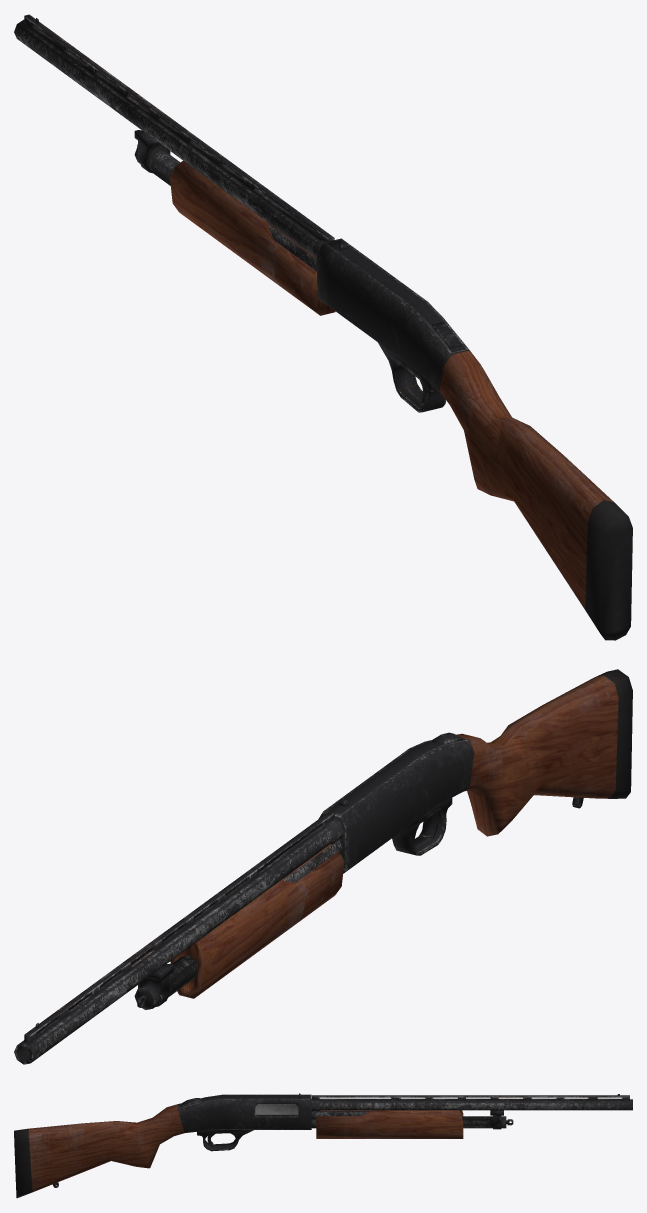
The model's file is shotgun.glb.
3 views of the same model, one above another, from view 1: azimuth 30°, elevation 25°; view 2: azimuth 150°, elevation 25°; view 3: azimuth 270°, elevation 25° (orthographic). The views are drawn at different scales.
Parts seen in each view (by area): view 1: body, bolt; view 2: body, bolt; view 3: body, bolt.
Boxes of the visible parts, <box> form: body: <box>14,14,632,640</box>; bolt: <box>170,160,335,315</box>; body: <box>14,669,632,1064</box>; bolt: <box>170,851,344,998</box>; body: <box>14,1093,632,1198</box>; bolt: <box>316,1110,463,1138</box>.
Size of the model in its own units: 0.0351 by 0.1991 by 1.08.
Materials: 1 (1 with a texture image).
